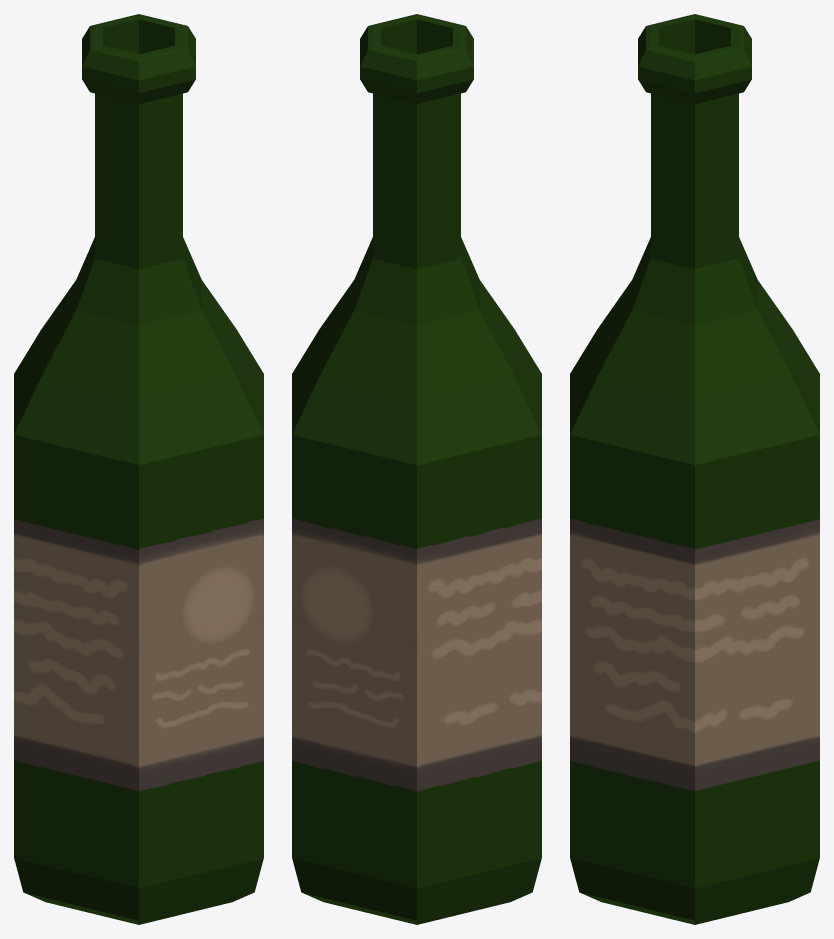
The model's file is bottle_wine.fbx.
3 views of the same model, side by side, from view 1: azimuth 30°, elevation 25°; view 2: azimuth 150°, elevation 25°; view 3: azimuth 270°, elevation 25° (orthographic).
Parts seen in each view (by area): view 1: bottle_wine; view 2: bottle_wine; view 3: bottle_wine.
Boxes of the visible parts, x1,y1,x2,y2 form: bottle_wine: (14,14,263,924); bottle_wine: (292,14,541,924); bottle_wine: (570,14,819,924).
Size of the model in its own units: 200 by 644 by 173.
